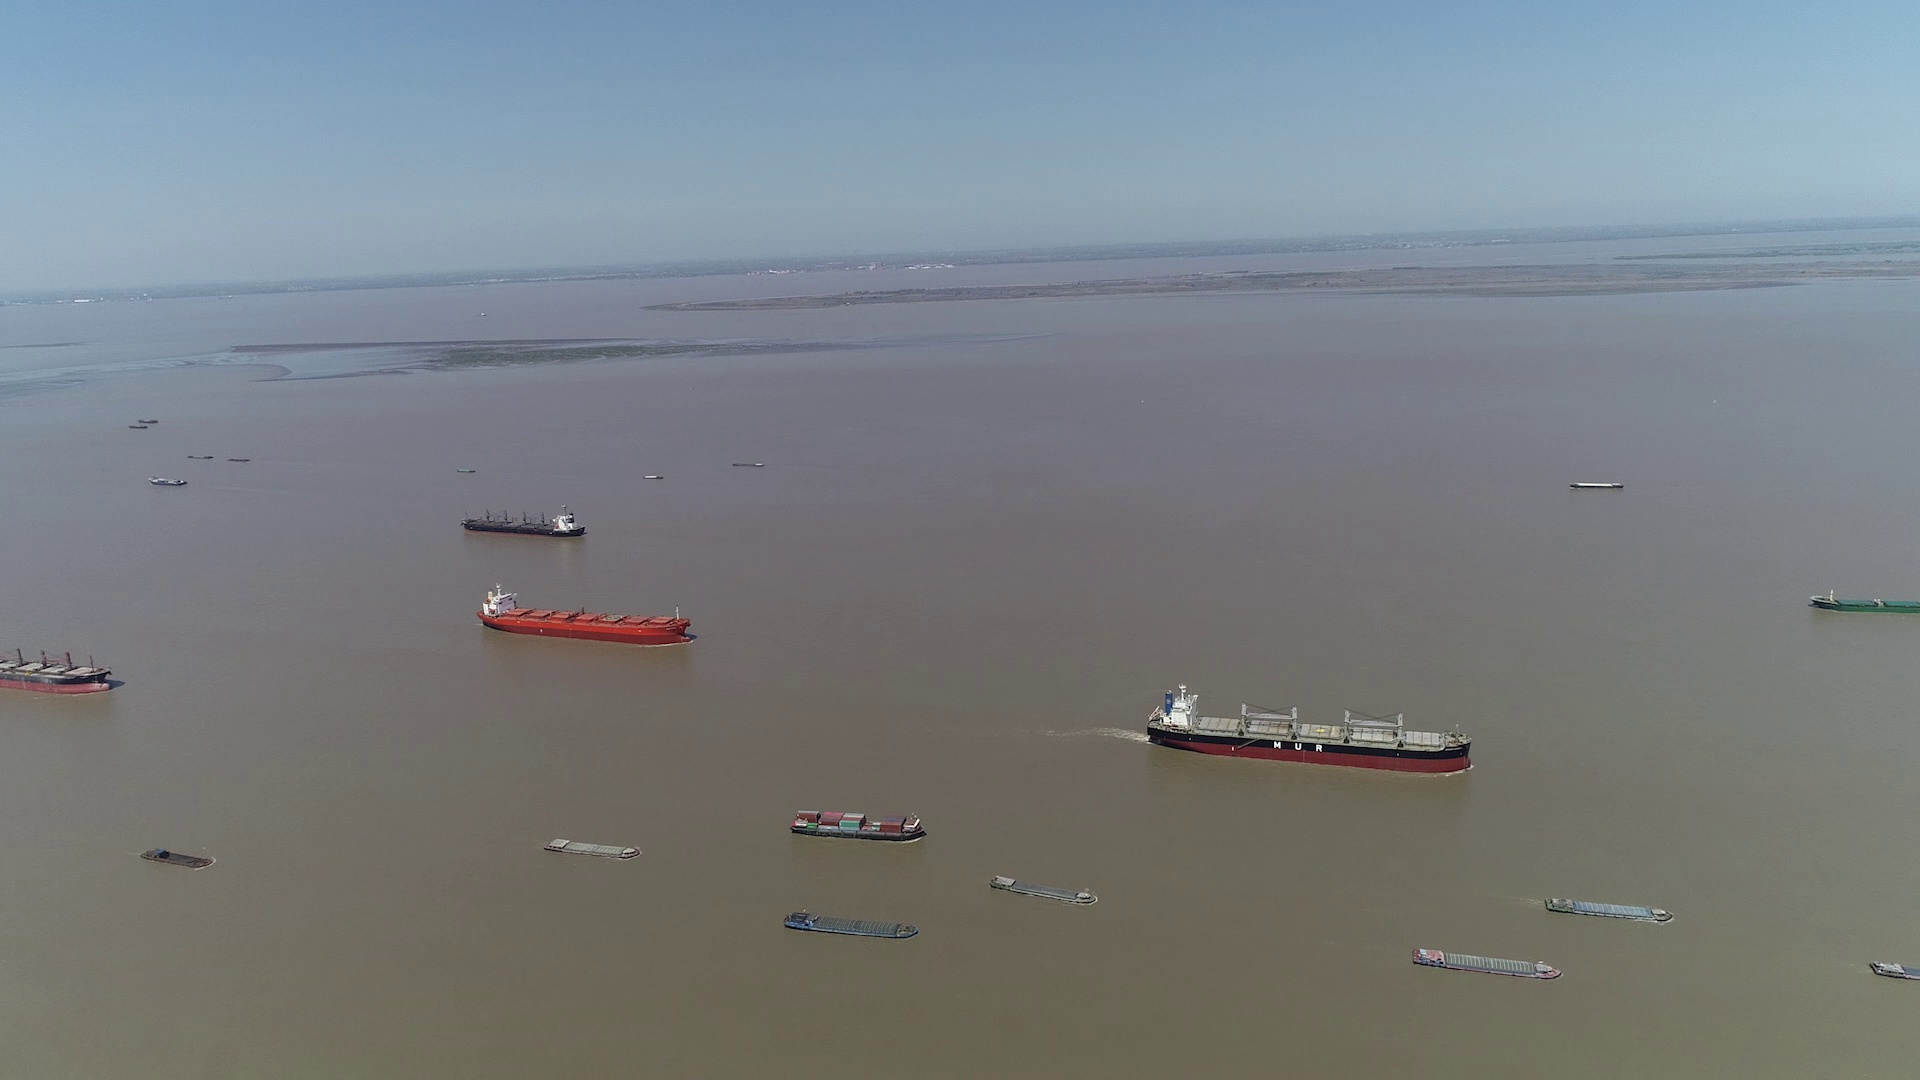ship: (1149, 684, 1473, 774), (483, 583, 691, 646), (3, 636, 117, 696), (1414, 948, 1561, 981), (787, 808, 923, 843), (782, 909, 919, 940), (465, 505, 585, 537), (1542, 895, 1669, 924), (988, 876, 1098, 906), (1809, 588, 1919, 615), (545, 836, 640, 858), (144, 847, 216, 869), (1869, 960, 1917, 986), (149, 475, 187, 487), (1572, 483, 1625, 491)
